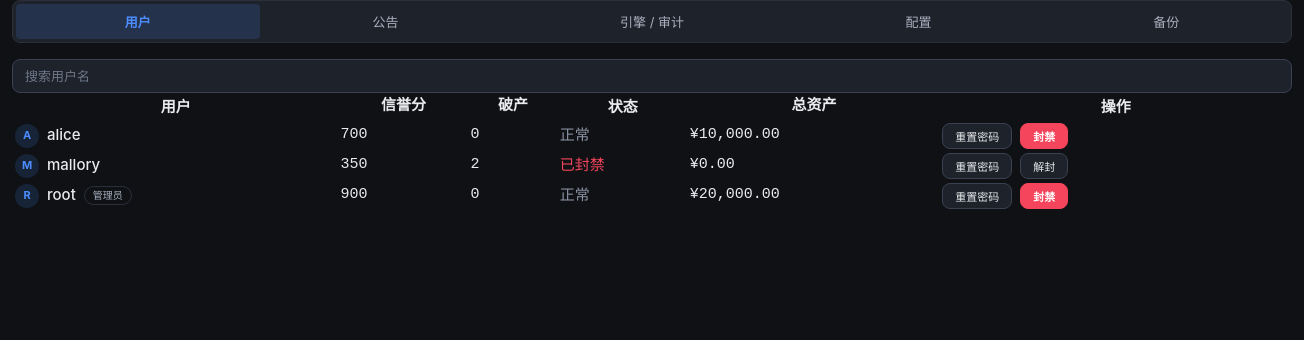
Test case: 引擎状态 › 显示 day / tickInDay / lastTick / 延迟
Click the button with test id "admin-tab-audit".
click(652, 22)  # box [511, 4, 793, 39]
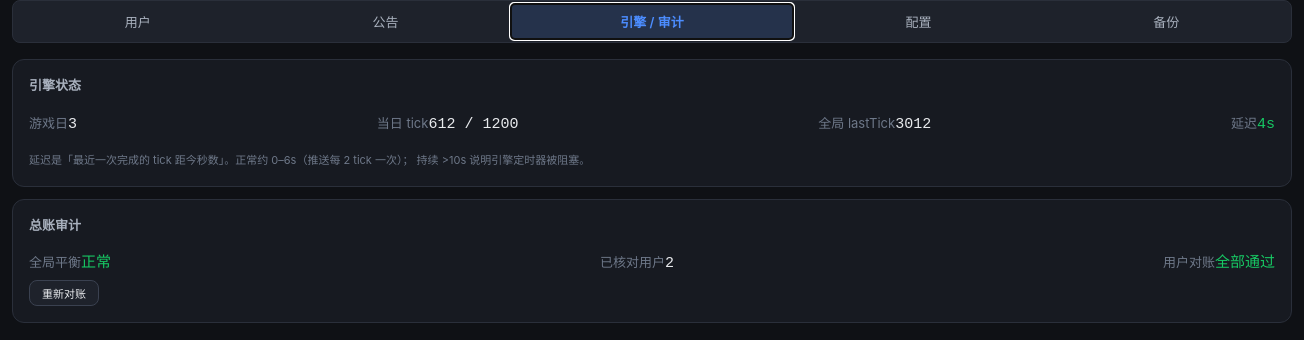
Expected: the text with test id "engine-day" reads "3", [68, 116, 77, 132]
Expected: the text with test id "engine-tick" shows "612", [428, 116, 455, 132]
Expected: the text with test id "engine-lasttick" reads "3012", [895, 116, 931, 132]
